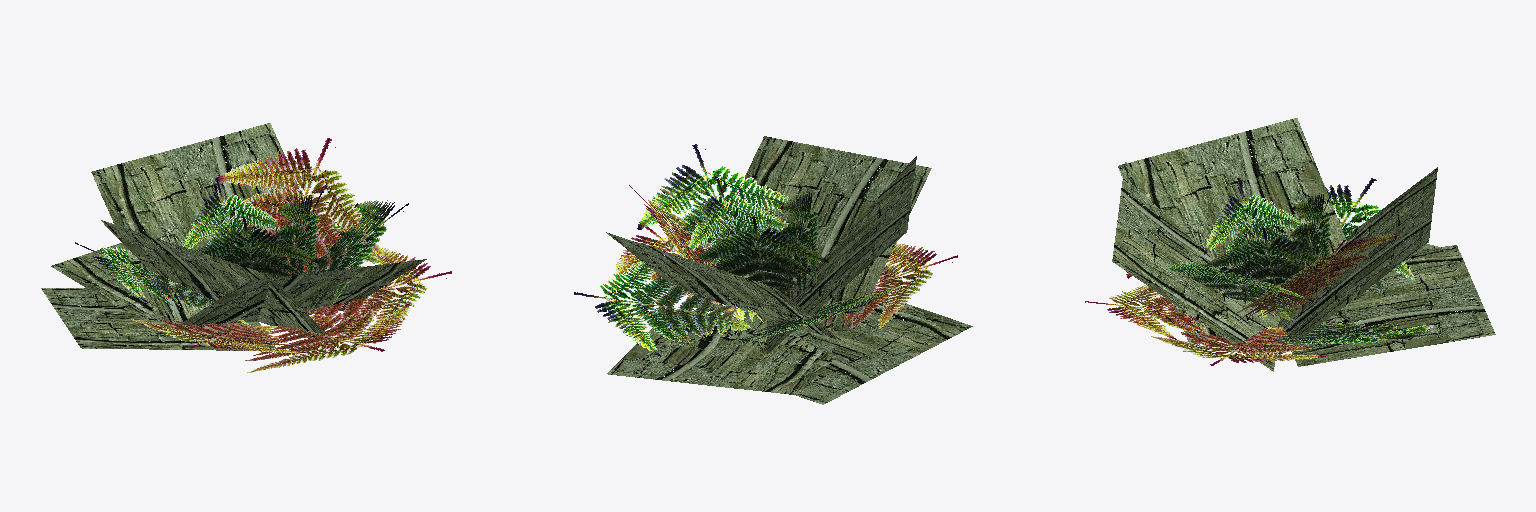
The picture shows the model from 3 angles: view 1: azimuth 30°, elevation 25°; view 2: azimuth 150°, elevation 25°; view 3: azimuth 270°, elevation 25°; orthographic projection.
Visible parts, largest first — view 1: Plant1; view 2: Plant1; view 3: Plant1.
Part boxes in pixels (bbox=[...]): Plant1: bbox=[41, 123, 451, 372]; Plant1: bbox=[574, 136, 972, 404]; Plant1: bbox=[1085, 118, 1495, 371].
Bounding box in the file's own units: 187 × 74.29 × 184.
Materials: 1 (1 with a texture image).